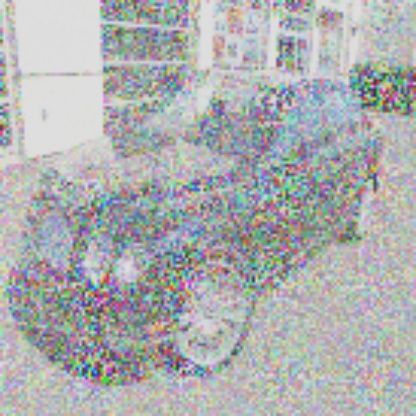Vehicle: (23, 69, 384, 378)
